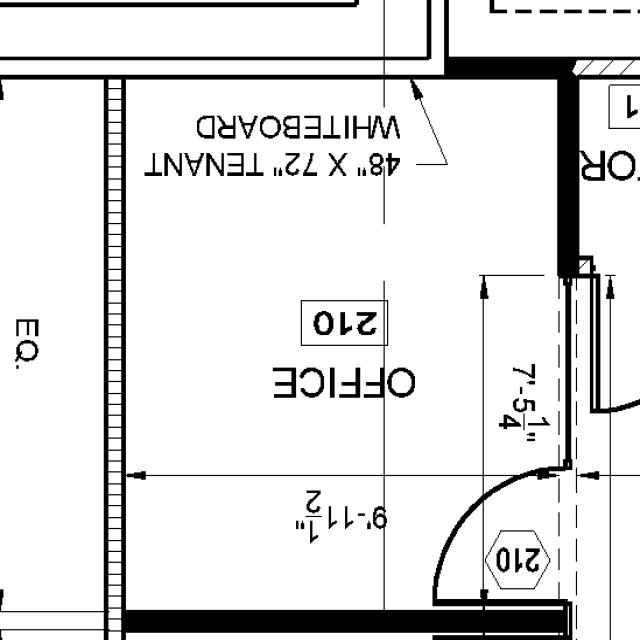Doors: (426, 463, 577, 607)
